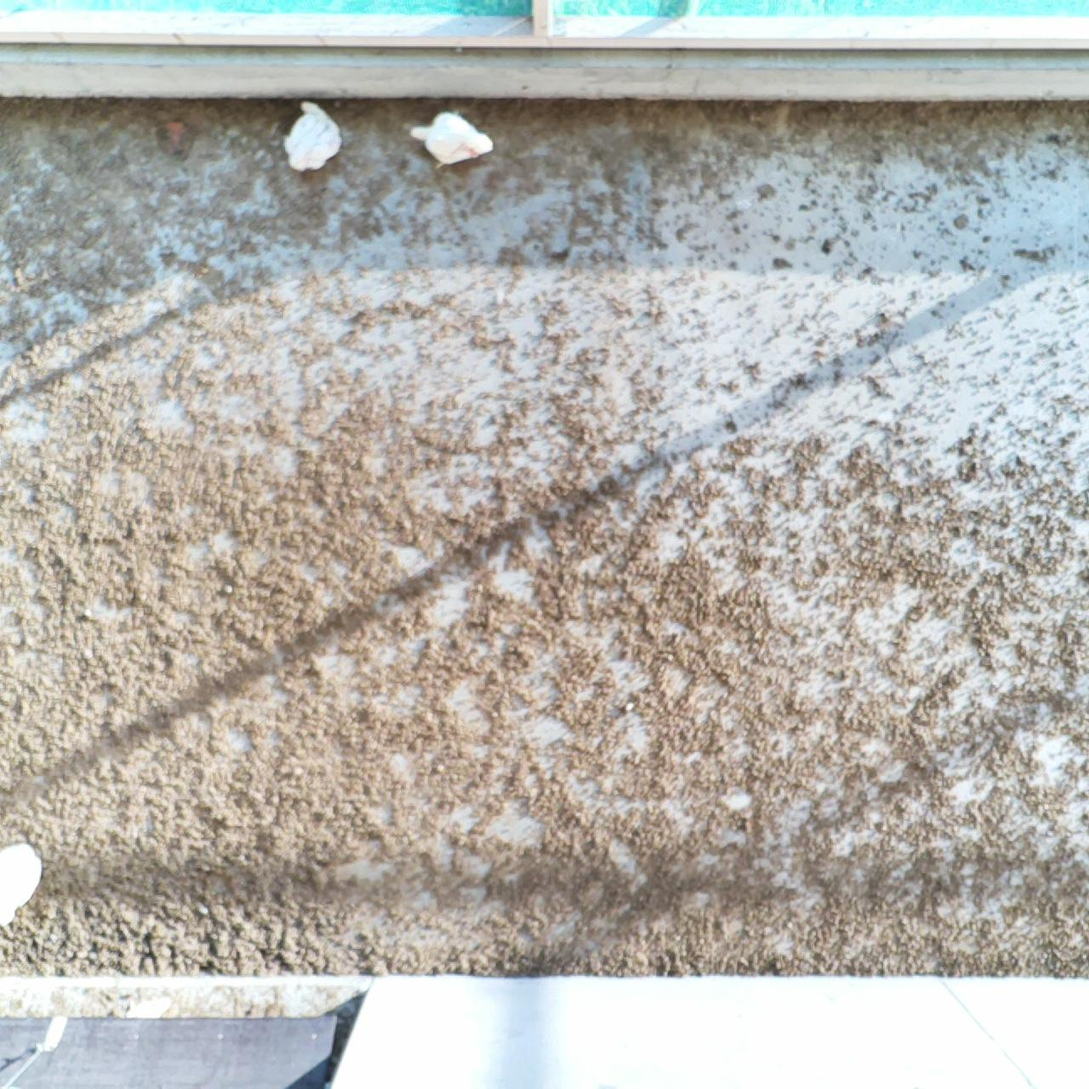chicken: (406, 105, 496, 172), (276, 93, 345, 174), (0, 836, 50, 931)
